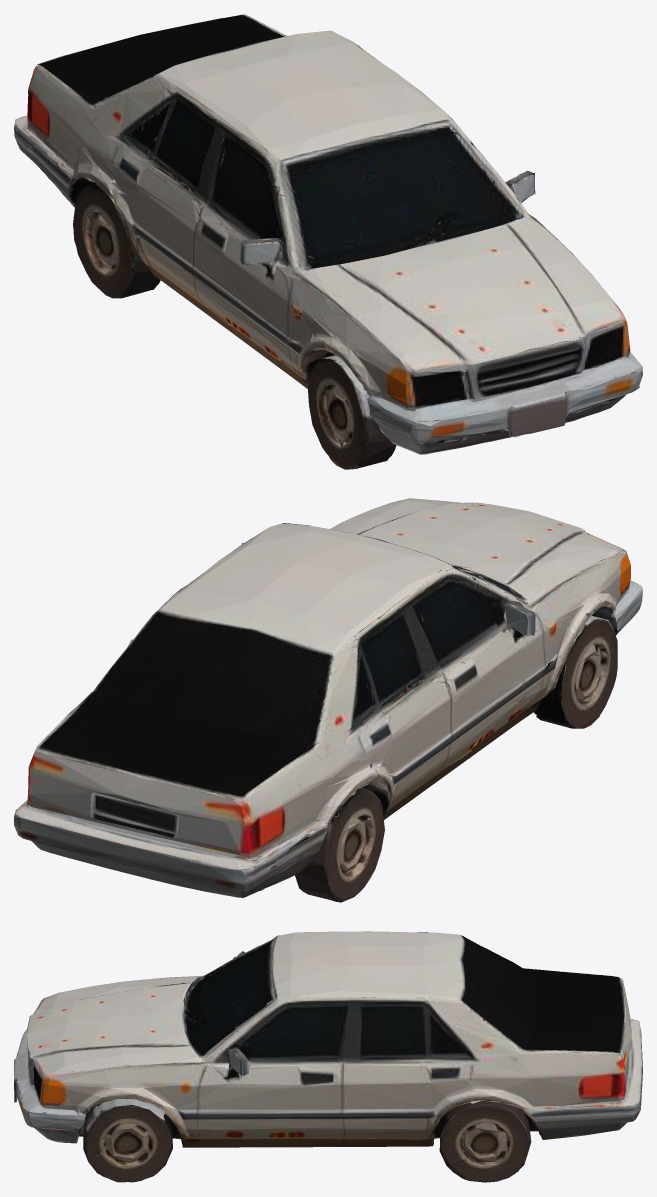
File: wreck_sedan.glb
3 renders of one model, top to bottom at view 1: azimuth 30°, elevation 25°; view 2: azimuth 150°, elevation 25°; view 3: azimuth 270°, elevation 25°, orthographic. The views are drawn at different scales.
Visible parts, largest first — view 1: obj.obj; view 2: obj.obj; view 3: obj.obj.
Boxes of the visible parts, bbox=[...] form: obj.obj: bbox=[14, 14, 642, 469]; obj.obj: bbox=[14, 498, 642, 902]; obj.obj: bbox=[14, 931, 642, 1182].
Bounding box in the file's own units: 1.96 × 1.5 × 4.78.
1 material, 1 textured.
